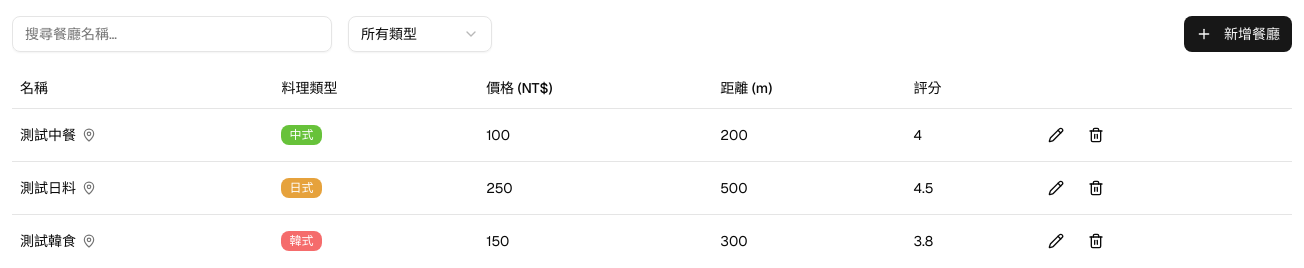
Test: RestaurantListPanel (admin CRUD) › search filters restaurants by name
Type "日料" into the field labelled "搜尋餐廳" at x=172, y=34, box [12,16,332,52]
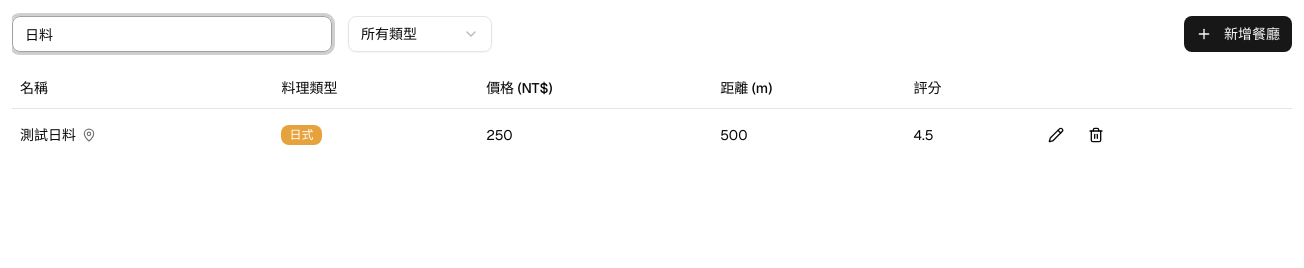
Expected: the text "測試日料" is shown, [20,124,96,144]
Expected: the text "測試中餐" is gone
Expected: the text "測試韓食" is gone
